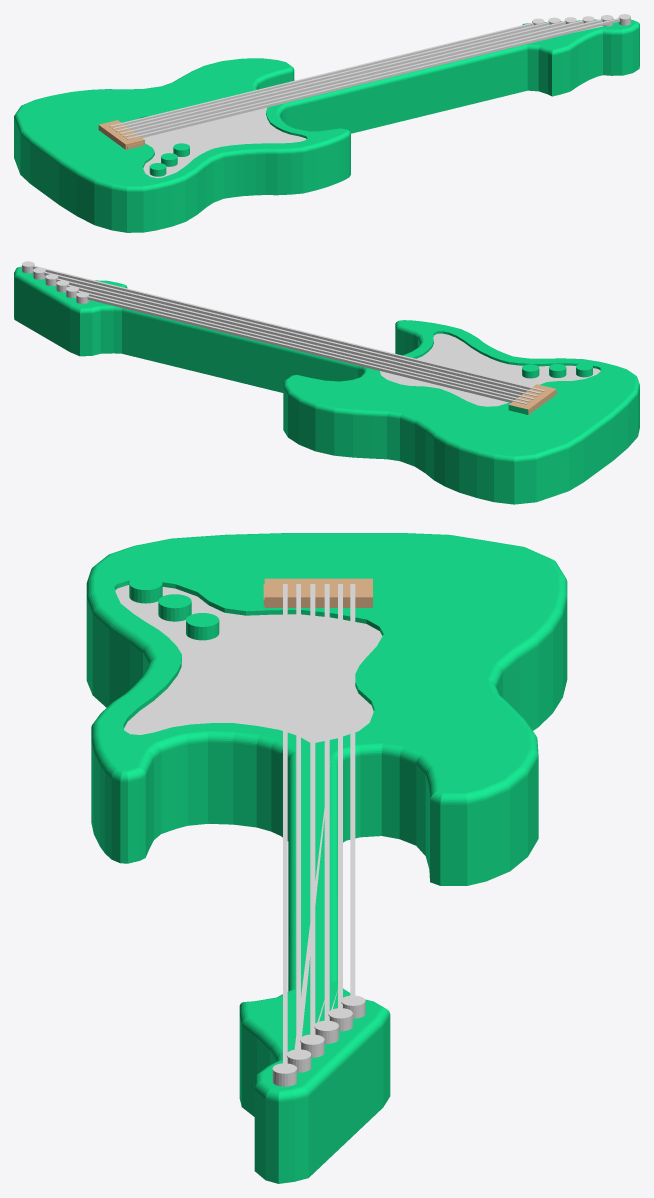
3 views of the same model, one above another, from view 1: azimuth 30°, elevation 25°; view 2: azimuth 150°, elevation 25°; view 3: azimuth 270°, elevation 25° (orthographic). The views are drawn at different scales.
Visible parts, largest first — view 1: guitar_detailed_final; view 2: guitar_detailed_final; view 3: guitar_detailed_final.
Boxes of the visible parts, bbox=[...] form: guitar_detailed_final: bbox=[14, 14, 639, 232]; guitar_detailed_final: bbox=[14, 261, 639, 504]; guitar_detailed_final: bbox=[86, 533, 567, 1183].
Bounding box in the file's own units: 13558 × 1145 × 4878.
